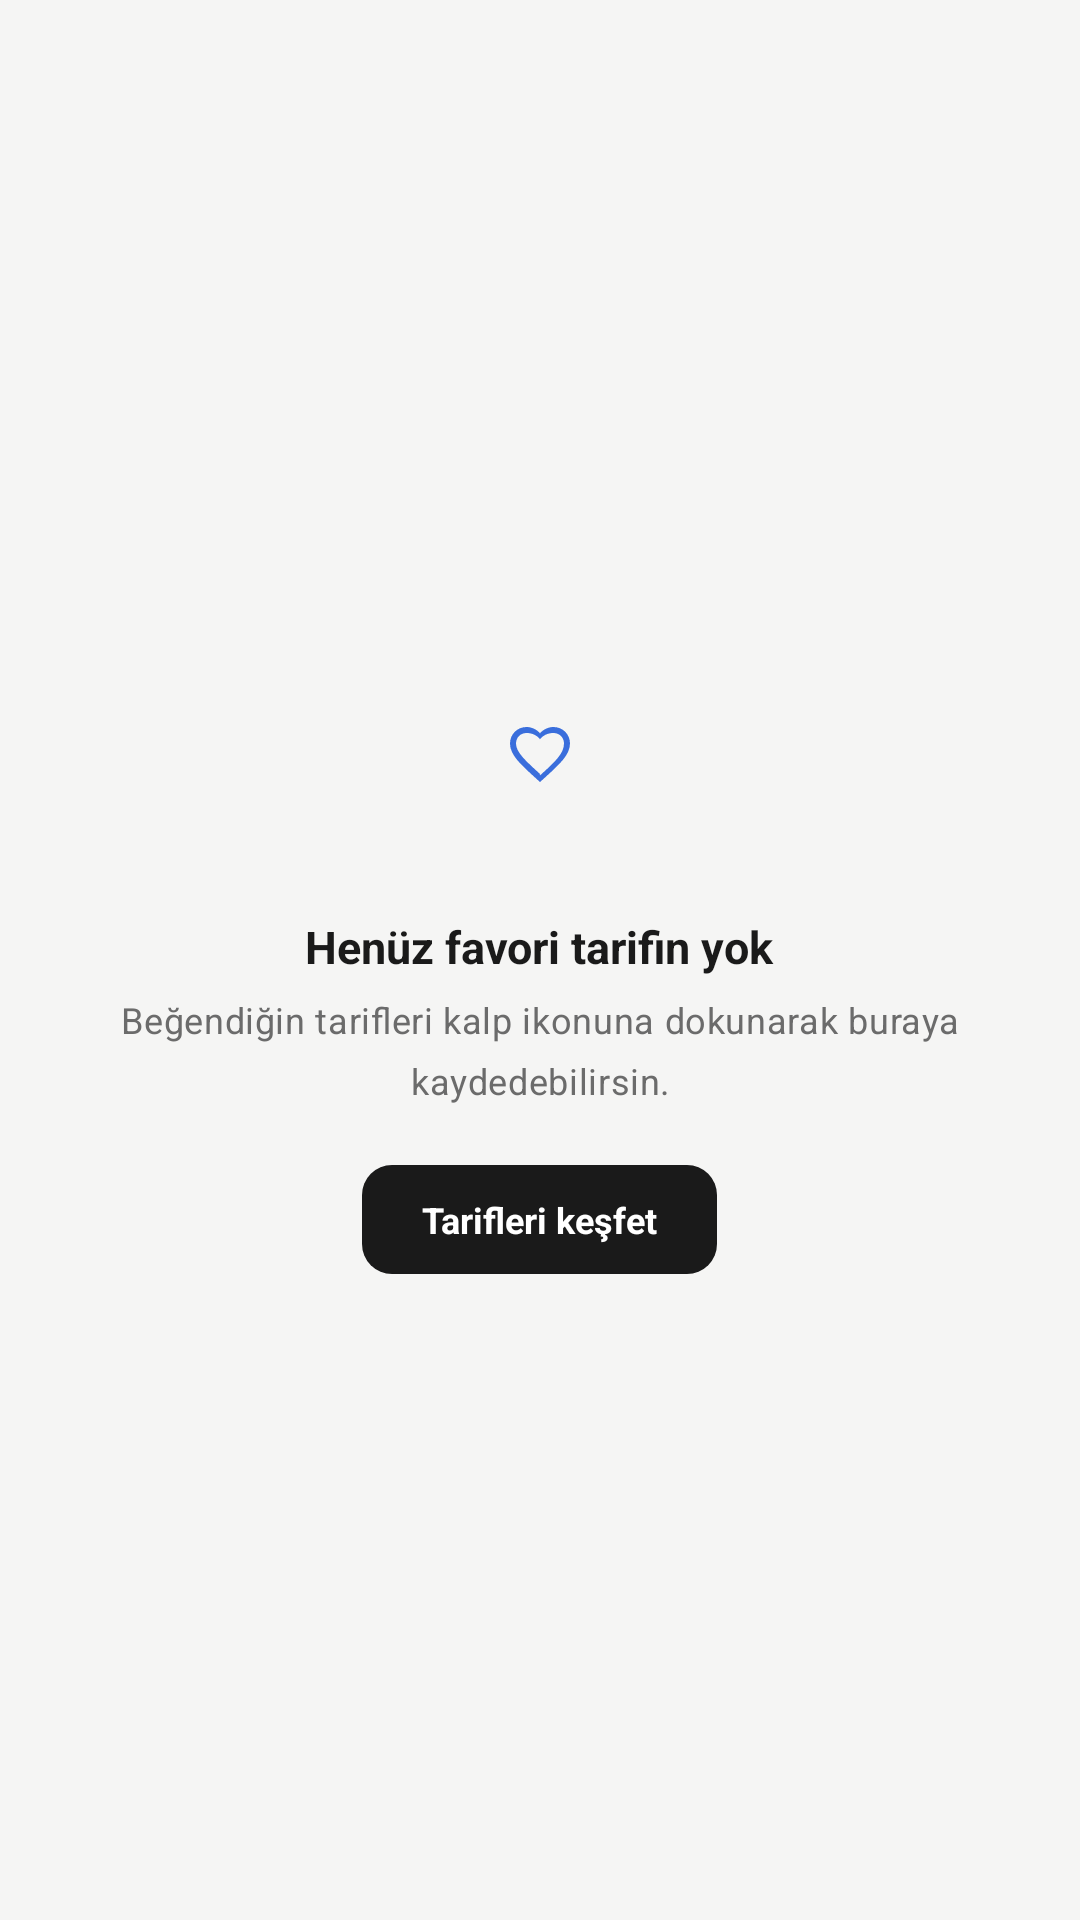

Locate icon controls on the screen. Image size 1080 × 1920, boxes as (x1, y1, x2, y2).
heart: (510, 727, 570, 782)
